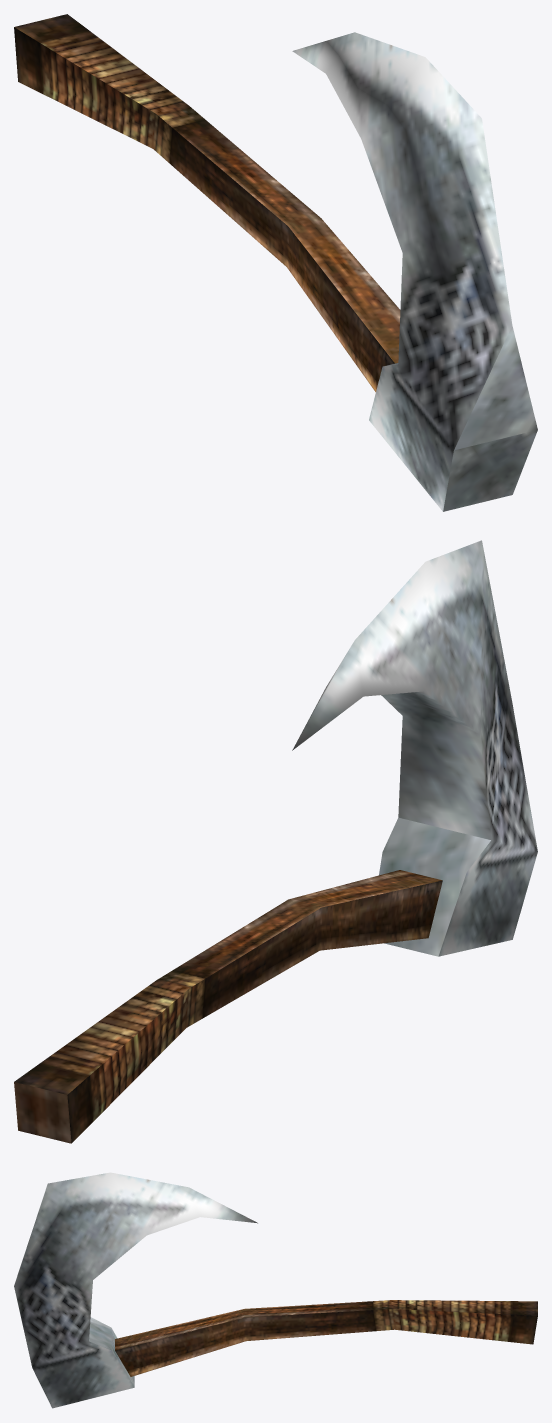
The model's file is wp_axe17.glb.
3 renders of one model, top to bottom at view 1: azimuth 30°, elevation 25°; view 2: azimuth 150°, elevation 25°; view 3: azimuth 270°, elevation 25°, orthographic. The views are drawn at different scales.
Visible parts, largest first — view 1: wp_axe17-col; view 2: wp_axe17-col; view 3: wp_axe17-col.
Part boxes in pixels (<box>): wp_axe17-col: <box>14,14,537,511</box>; wp_axe17-col: <box>14,540,537,1143</box>; wp_axe17-col: <box>14,1172,537,1408</box>.
Size of the model in its own units: 0.0735 by 0.3081 by 0.6457.
Materials: 1 (1 with a texture image).
